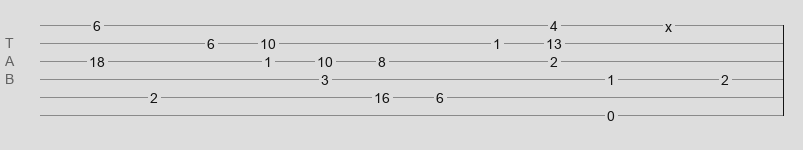0: (607, 108, 615, 118)
1: (264, 54, 272, 64), (493, 36, 501, 46), (607, 72, 615, 82)
10: (260, 36, 276, 46), (317, 54, 333, 64)
13: (546, 36, 562, 46)
16: (374, 90, 390, 100)
18: (89, 54, 105, 64)
2: (150, 90, 158, 100), (550, 54, 558, 64), (721, 72, 729, 82)
3: (321, 72, 329, 82)
4: (550, 18, 558, 28)
6: (93, 18, 101, 28), (207, 36, 215, 46), (436, 90, 444, 100)
8: (378, 54, 386, 64)
x: (665, 19, 672, 27)
